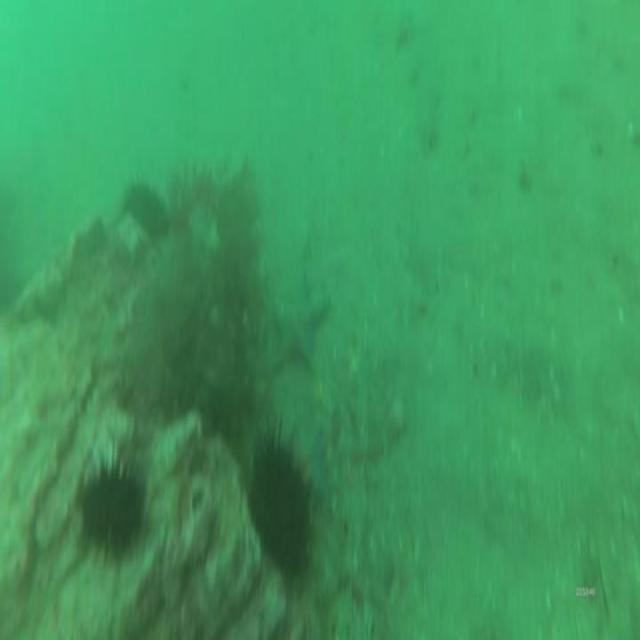echinus: (251, 442, 310, 582), (81, 476, 144, 544), (125, 179, 172, 240)
starfish: (267, 283, 328, 367), (292, 427, 329, 496)
